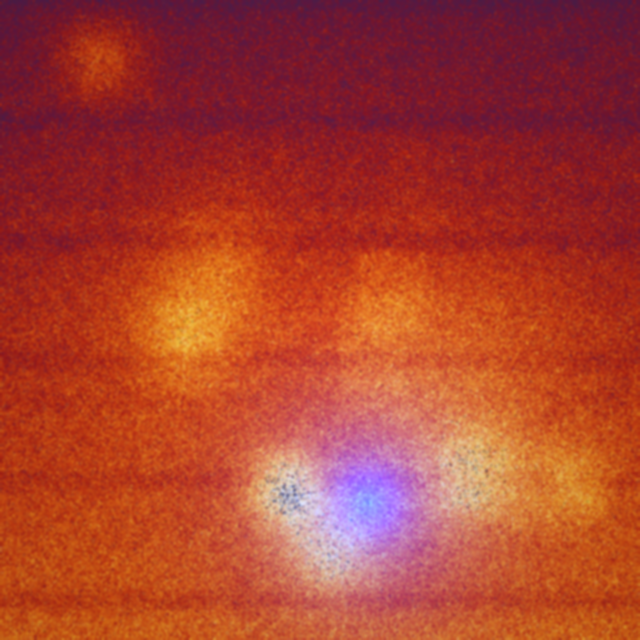nozzle: (334, 460, 427, 538)
